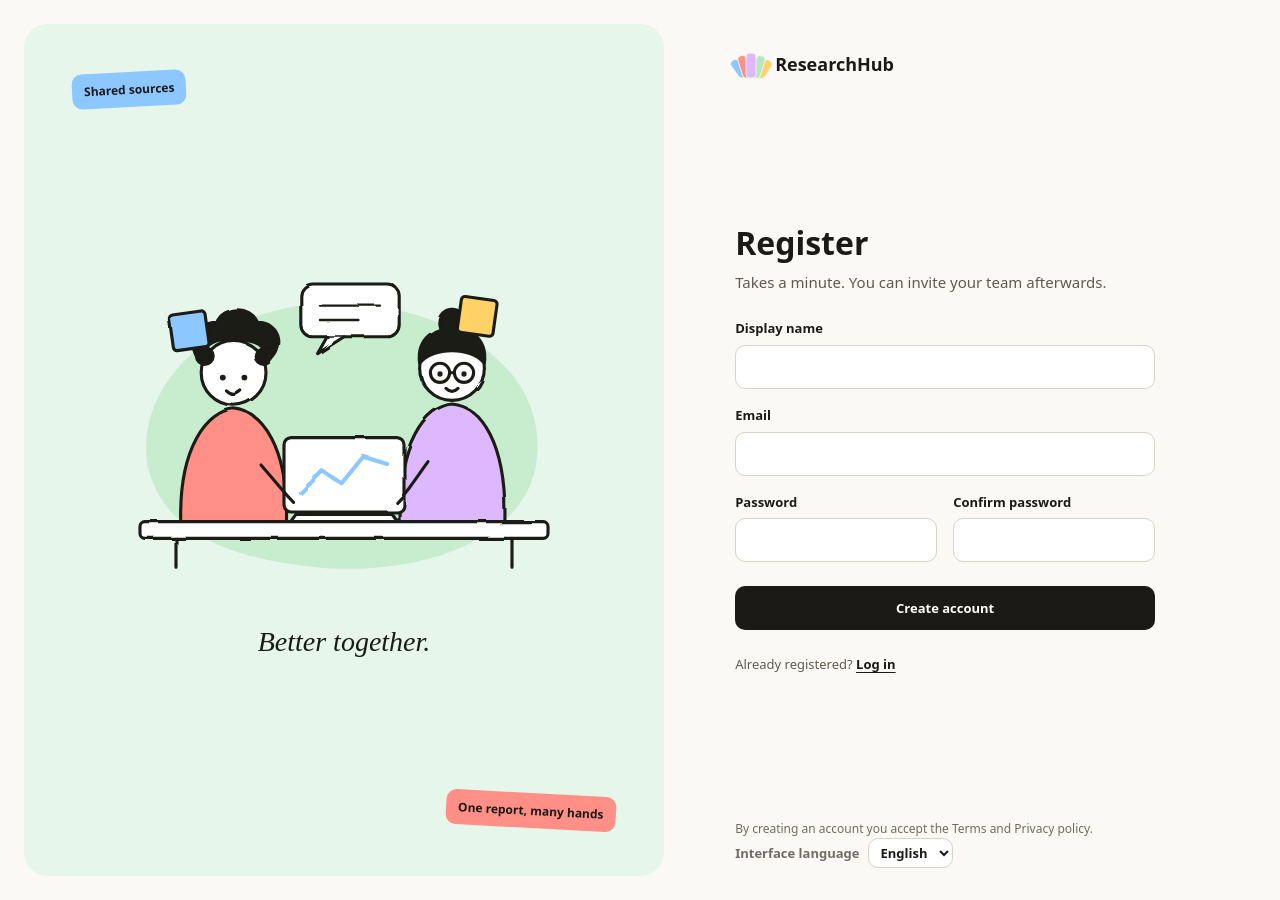
it: RegisterPage › validates a missing confirmation on submit even when it has never been focused
The image size is (1280, 900).
Type "Ada" into the field labelled "Display name". click: (945, 367)
box: [735, 345, 1155, 389]
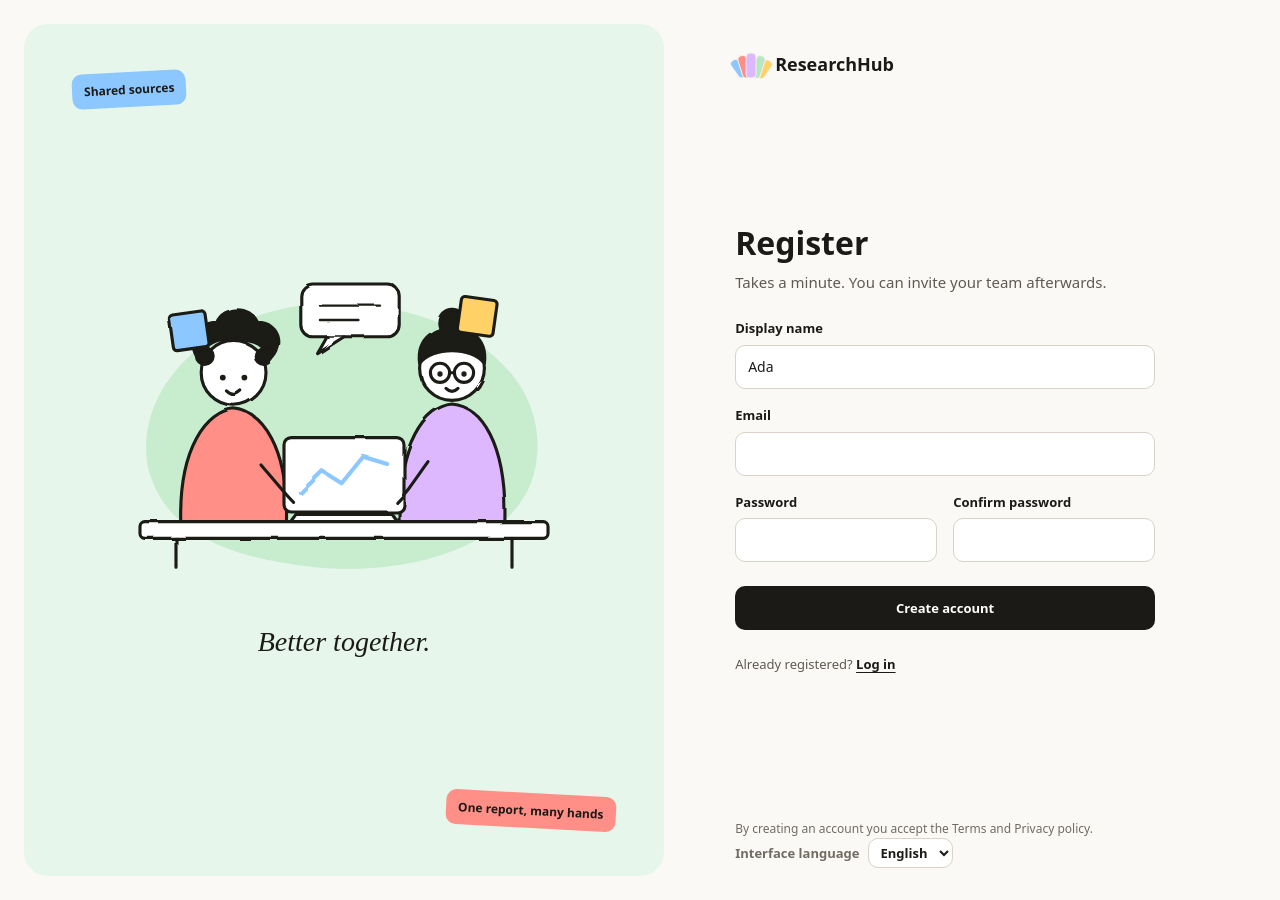
Type "ada@example.com" into the field labelled "Email". click: (945, 454)
box: [735, 432, 1155, 476]
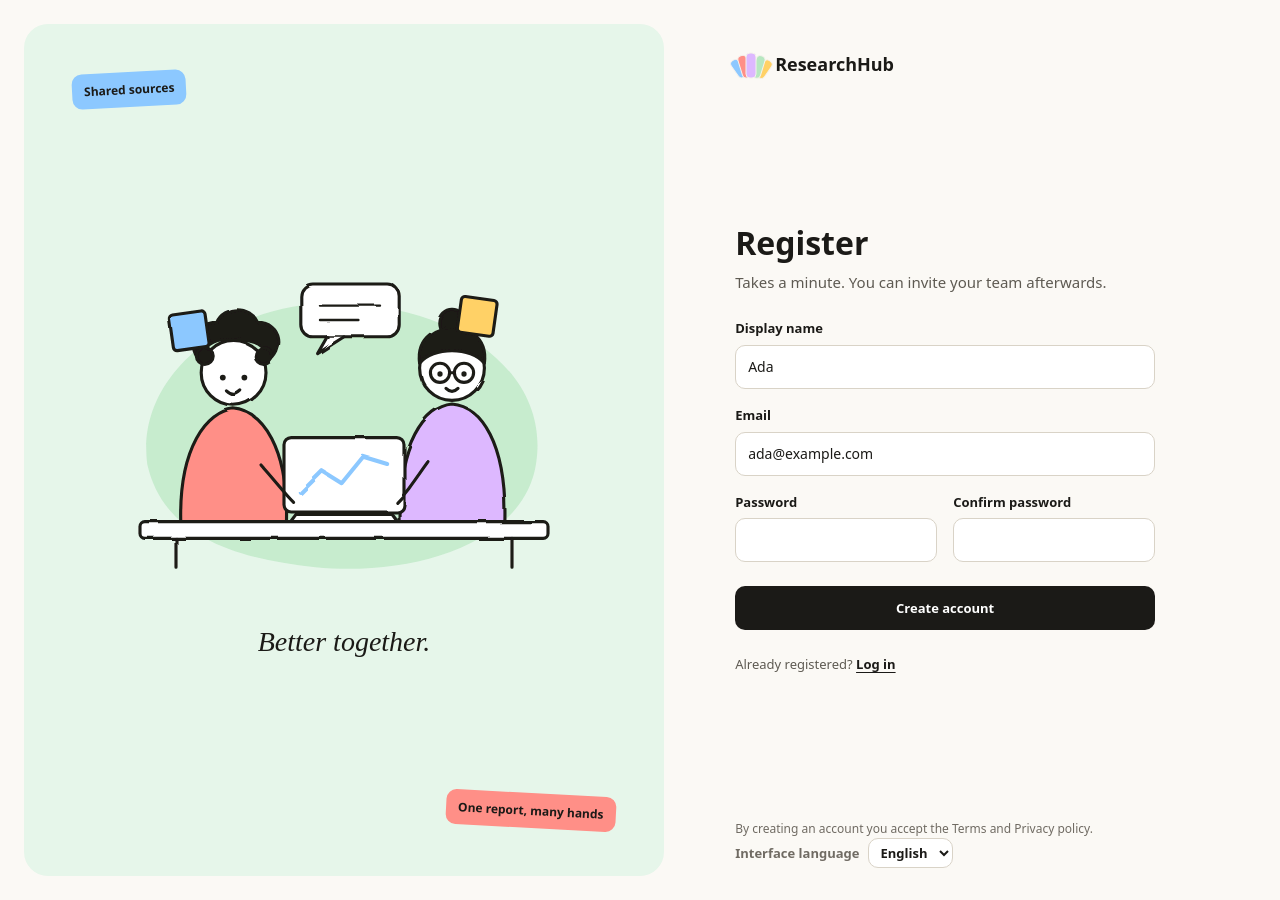
Type " a-long-enough-password " into the password field labelled "Password". click: (836, 540)
box: [735, 518, 937, 562]
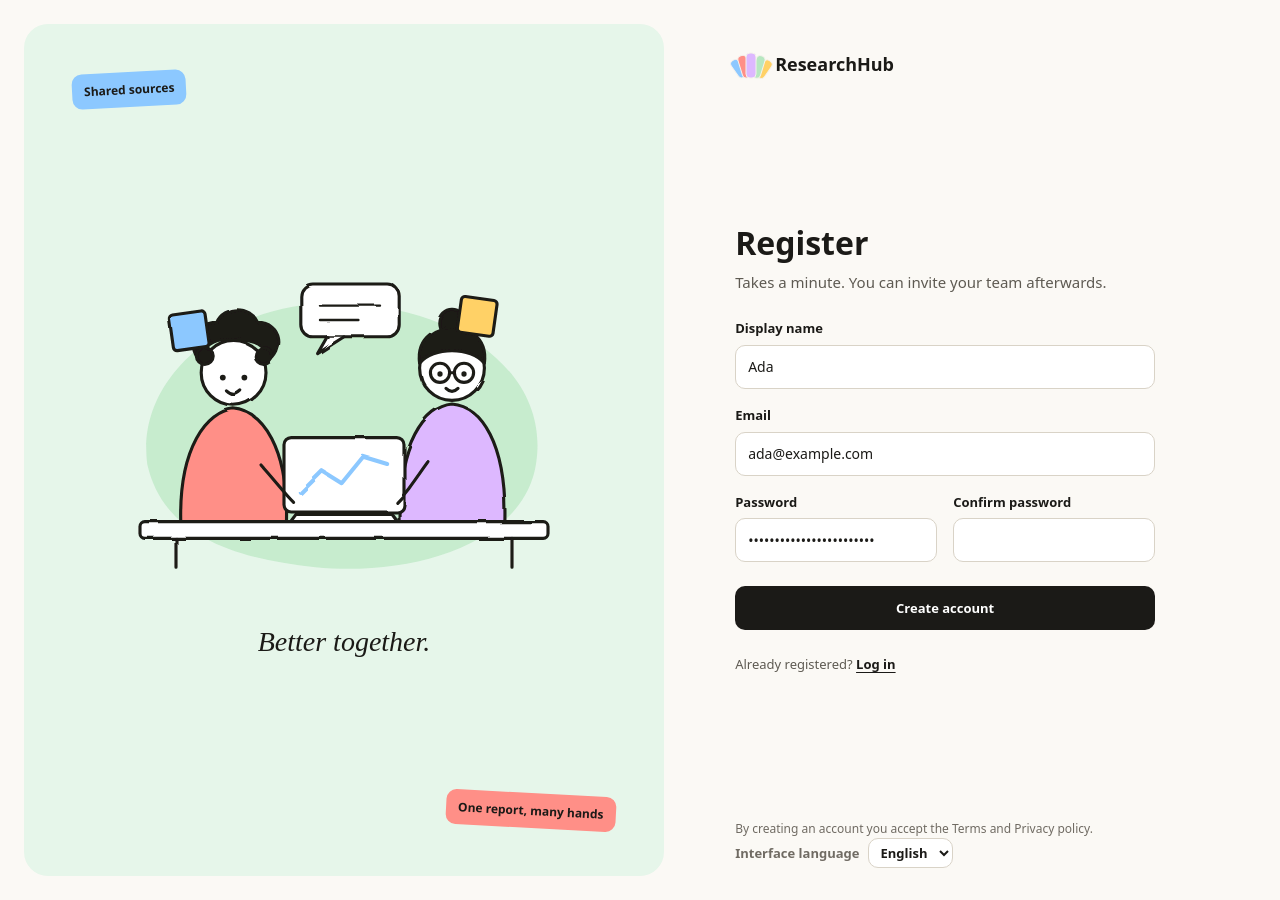
Click the button "Create account". click: (945, 608)
box: [735, 586, 1155, 630]
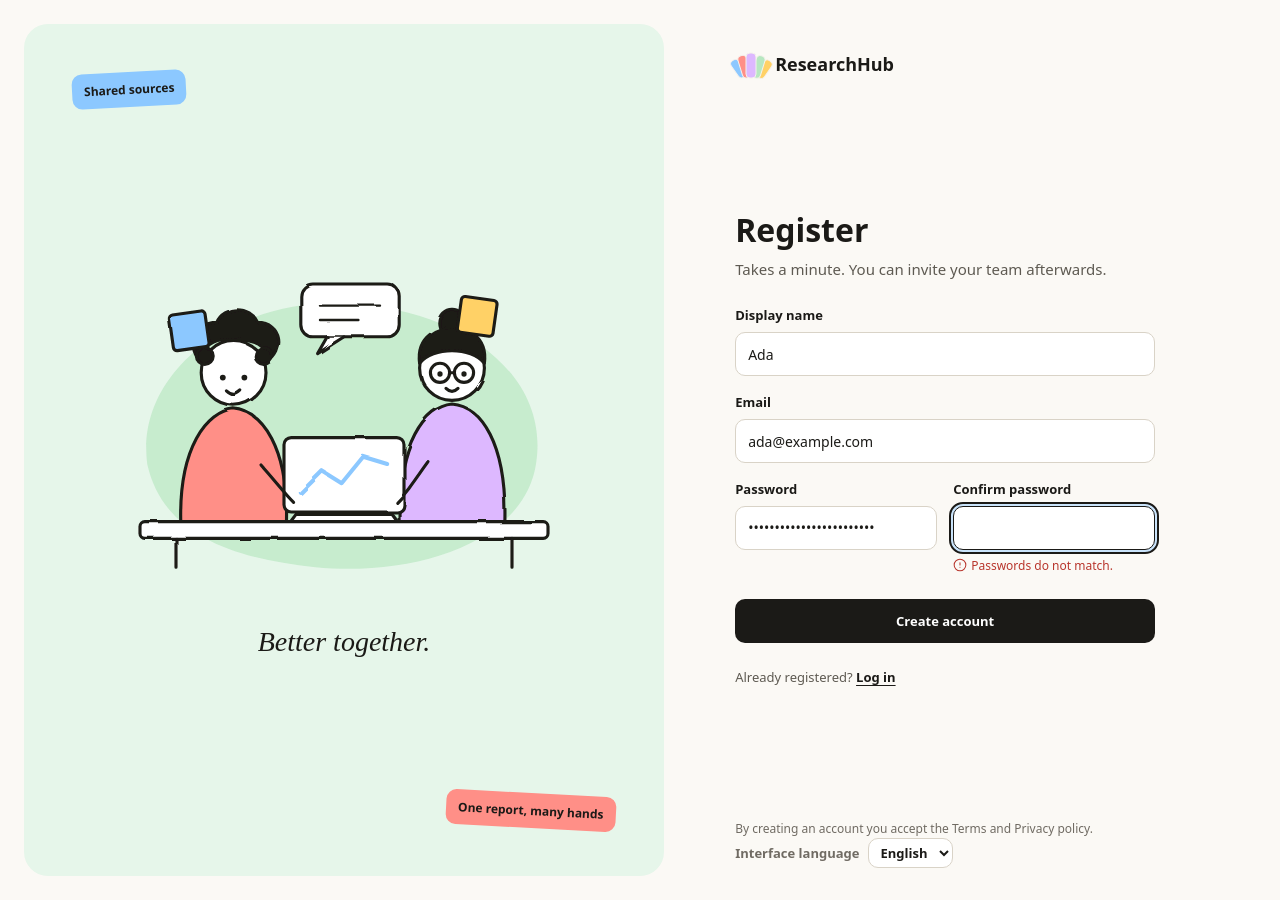
Expected: the text "Passwords do not match." is shown, [953, 557, 1113, 574]
